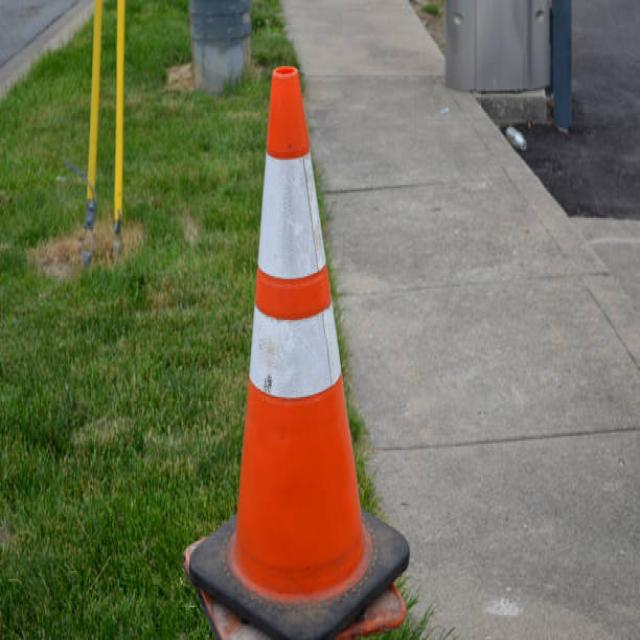Traffic Cone: (164, 35, 431, 640)
